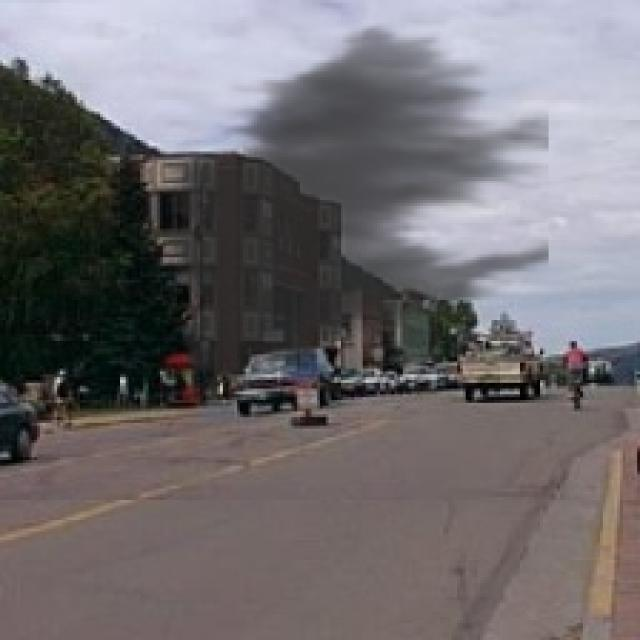Smoke: (142, 14, 548, 400)
